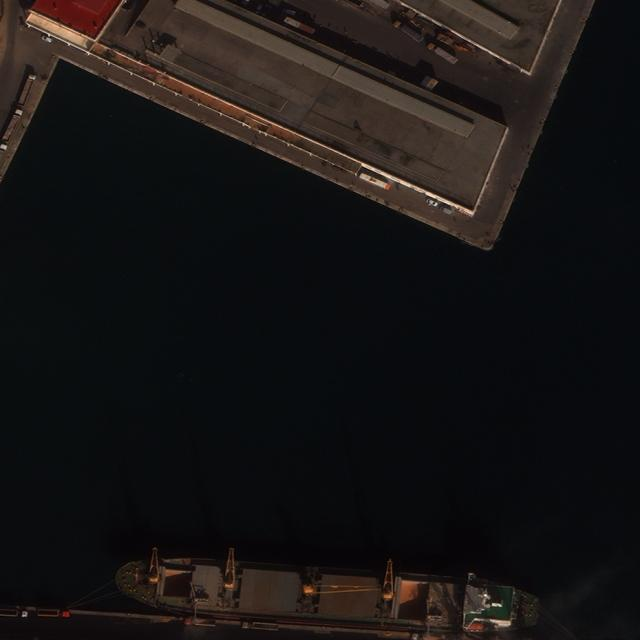Cargo: (114, 544, 545, 639)
